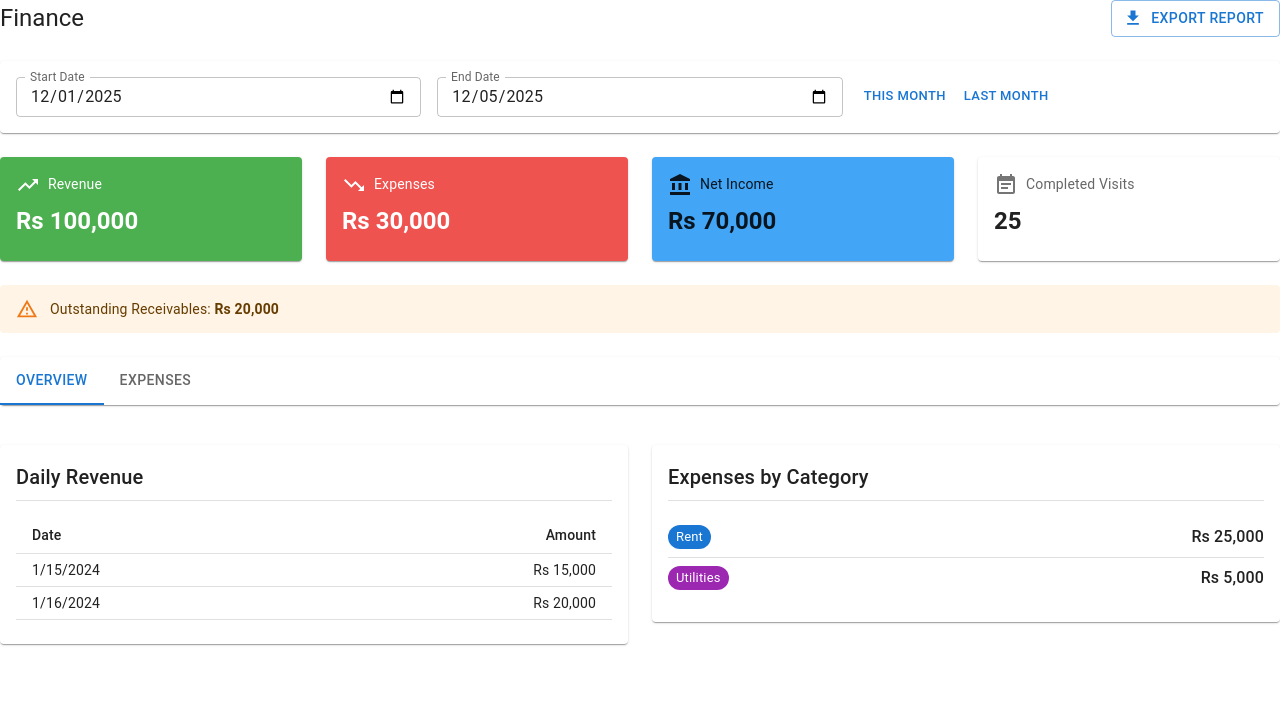
Expense Workflow Integration Tests › Expense CRUD Operations › should open add expense dialog when clicking Add Expense button
Click the tab "Expenses". click: (155, 380)
box: [104,356,207,404]
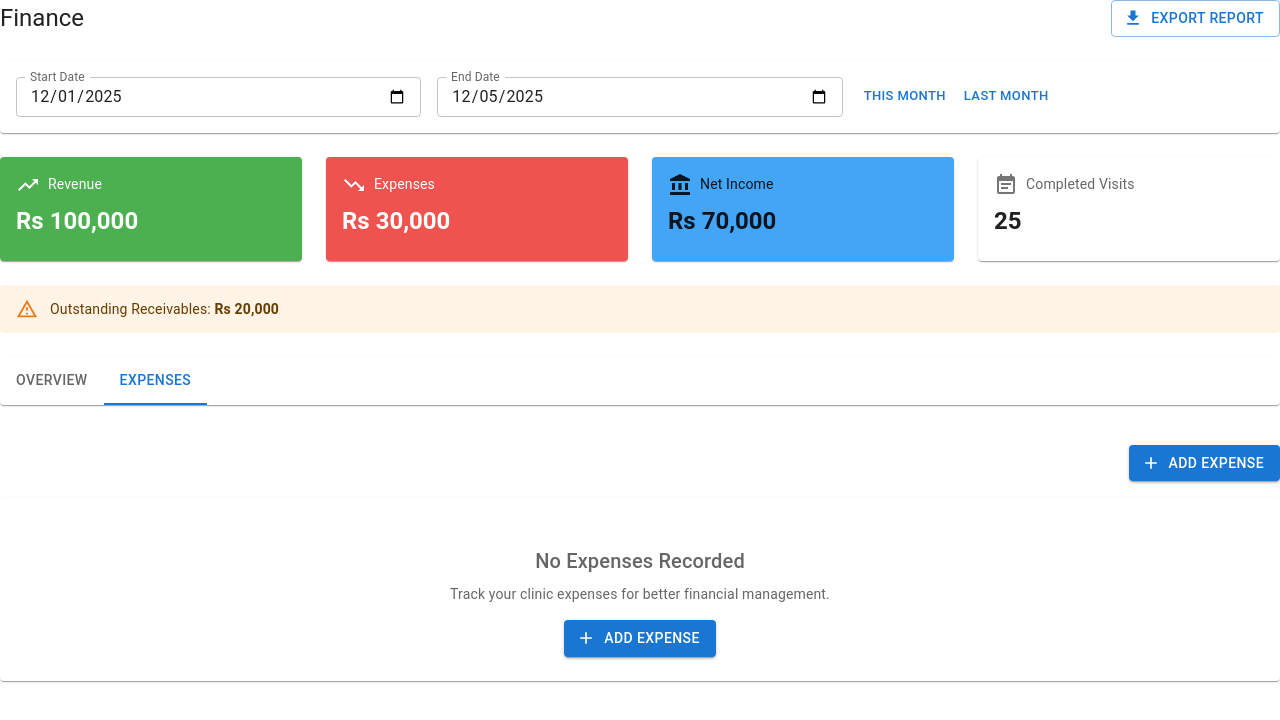
Expected: the heading "No Expenses Recorded" is shown, [535,549,745,573]
Click the 1st button "Add Expense". click: (1204, 463)
box: [1128,444,1279,481]
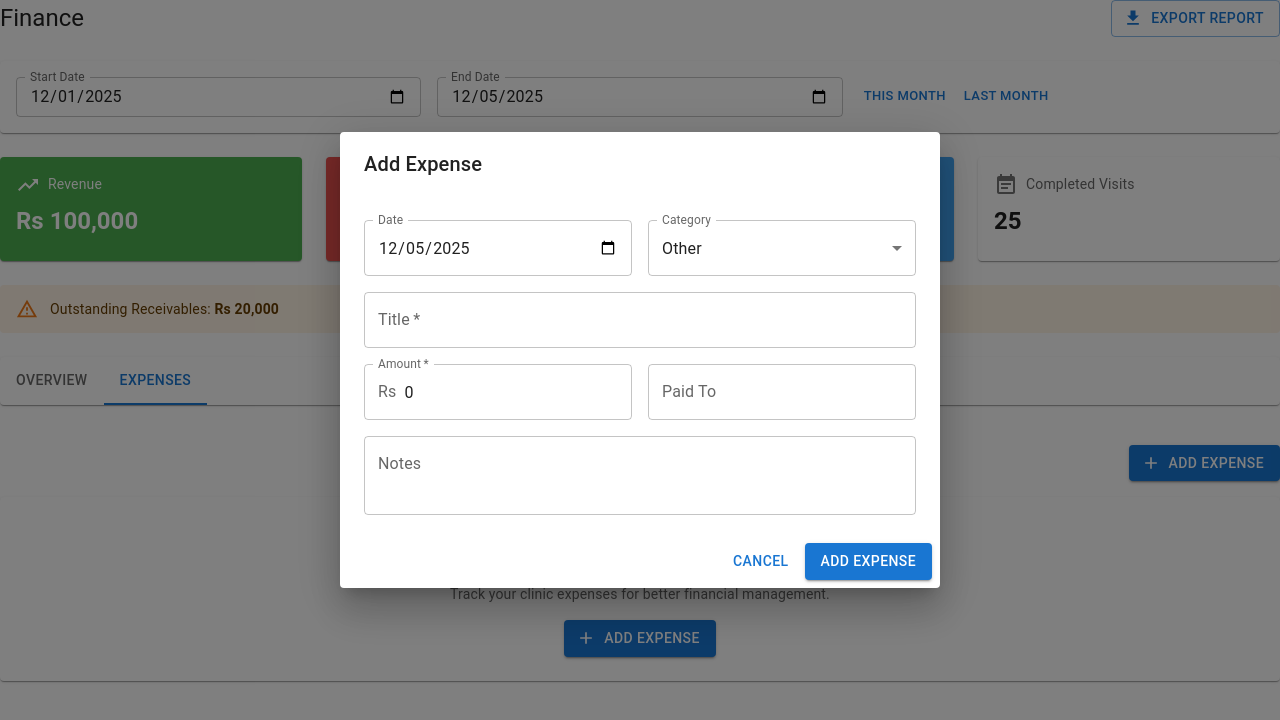
Expected: the dialog is shown, [340,132,940,588]
Expected: the number field labelled "Amount *" is shown, [404,364,632,420]
